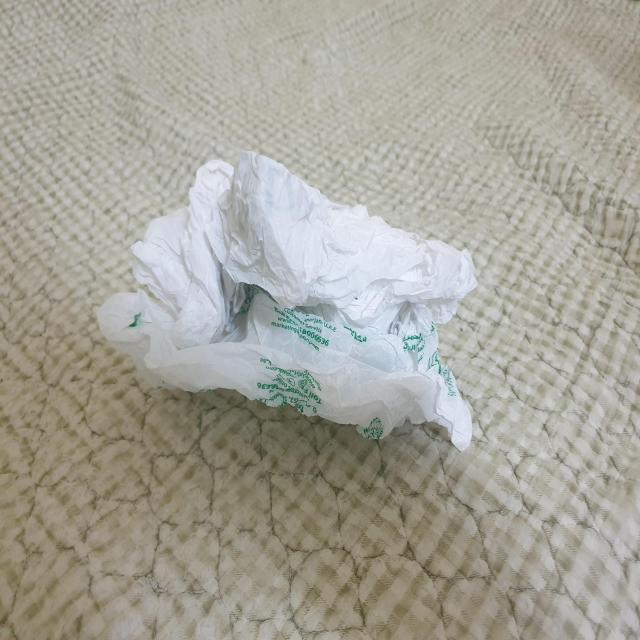plastic bag: (89, 142, 482, 456)
